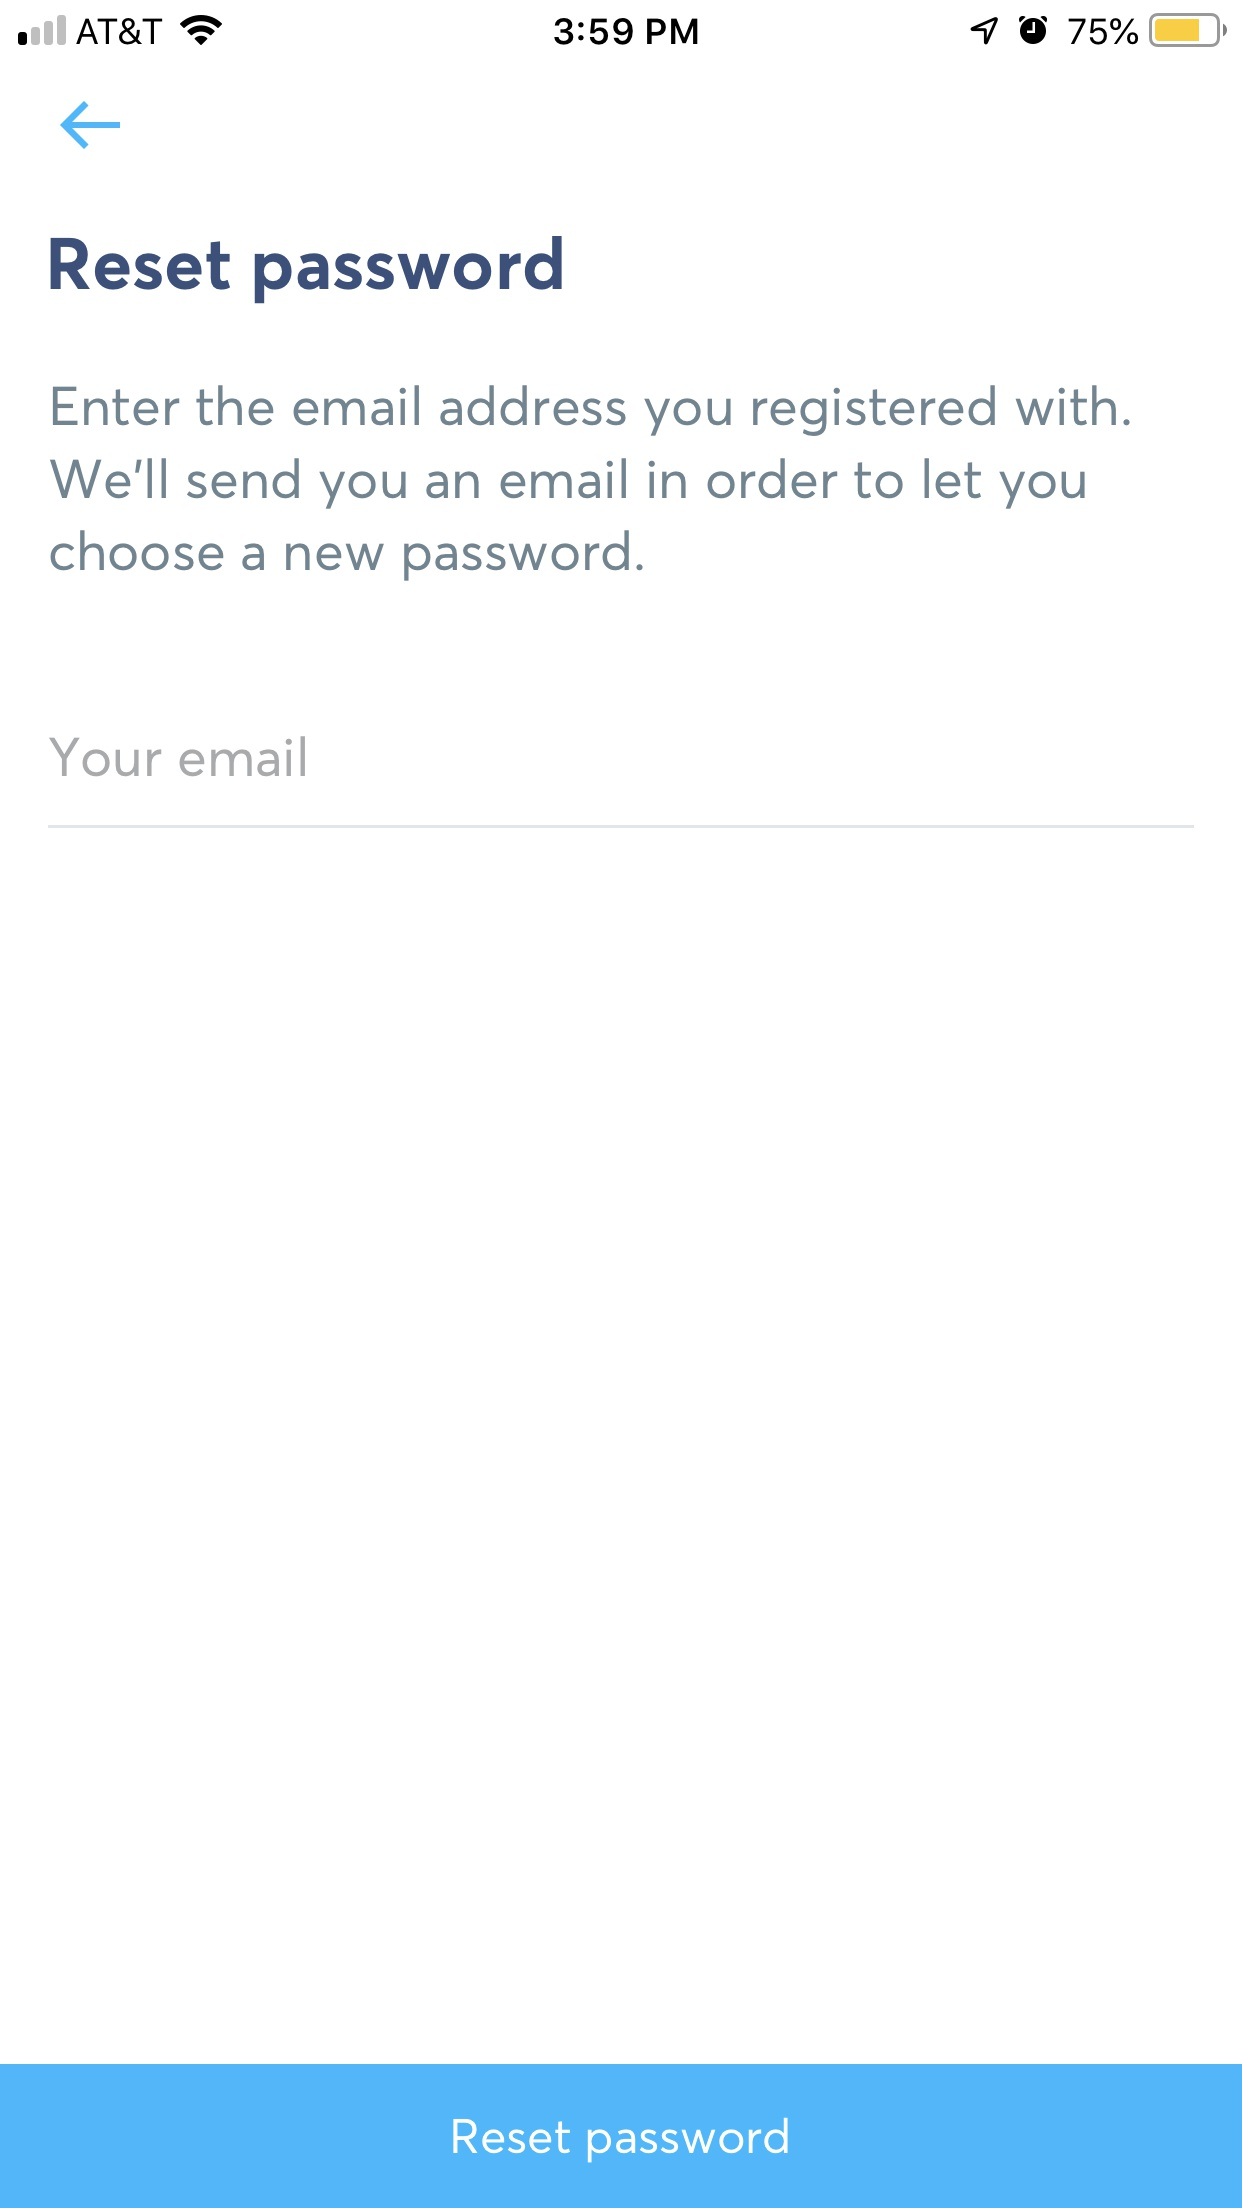EditText: (49, 737, 1195, 830)
Icon: (61, 102, 121, 150)
Text: (49, 384, 1131, 582), (50, 237, 563, 305), (50, 737, 306, 778)
TextButton: (2, 2064, 1242, 2208)
UpperTaskBar: (2, 2, 1242, 49)
